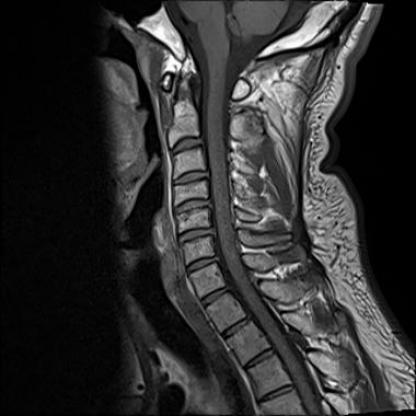Disc Bulgerotation: (182, 252, 223, 272), (176, 224, 217, 242), (170, 169, 212, 186), (174, 198, 214, 215), (168, 137, 205, 155)
Disc Protrusionrotation: (183, 252, 223, 272)
